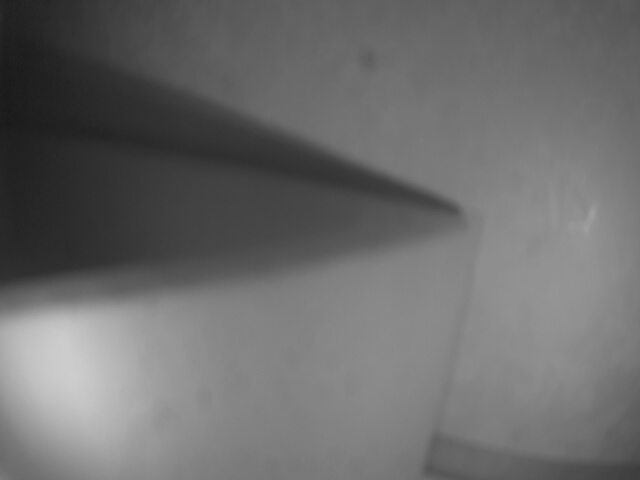Point: (3, 237, 469, 479)
